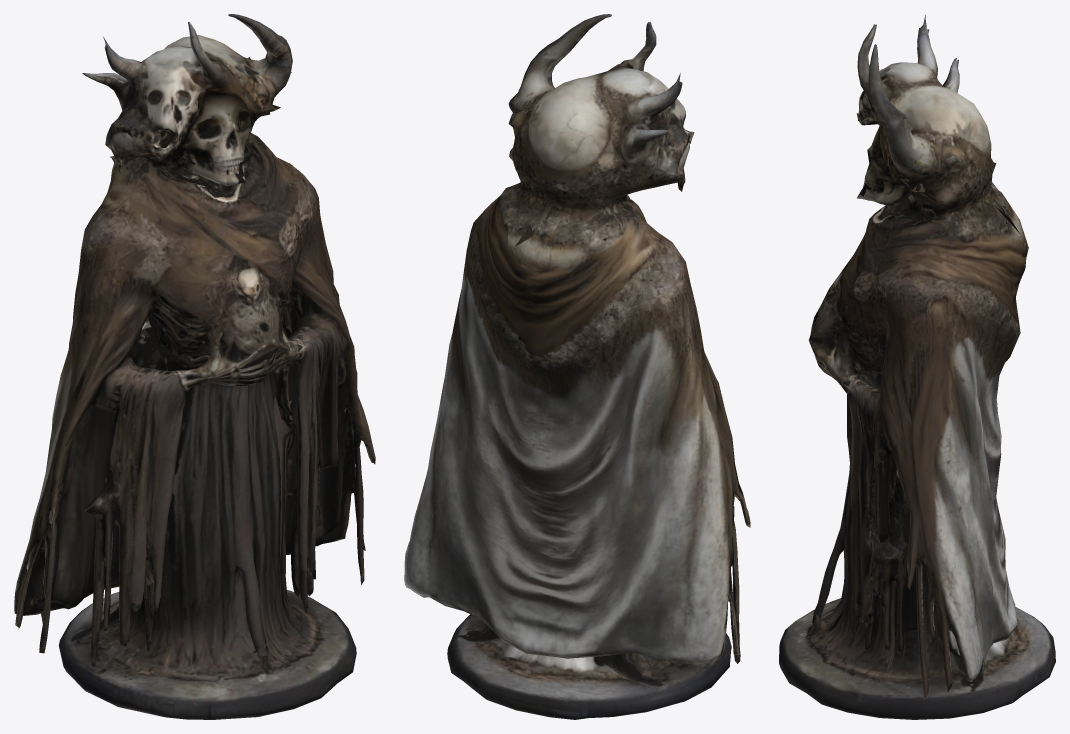
Rendered from McCoy 2.glb.
3 views of the same model, side by side, from view 1: azimuth 30°, elevation 25°; view 2: azimuth 150°, elevation 25°; view 3: azimuth 270°, elevation 25° (orthographic). The views are drawn at different scales.
Visible parts, largest first — view 1: Mesh0; view 2: Mesh0; view 3: Mesh0.
Part boxes in pixels (x1,y1,x2,y2): Mesh0: (14, 14, 375, 719); Mesh0: (404, 14, 750, 719); Mesh0: (779, 15, 1055, 719).
Size of the model in its own units: 1.04 by 1.89 by 0.7631.
1 material, 1 textured.
